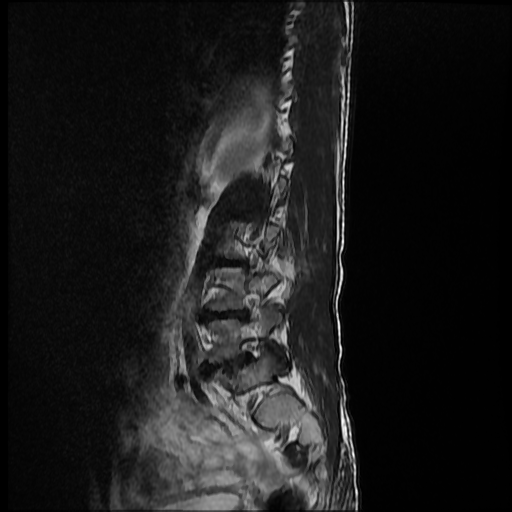RFS0: (228, 327, 276, 373)
